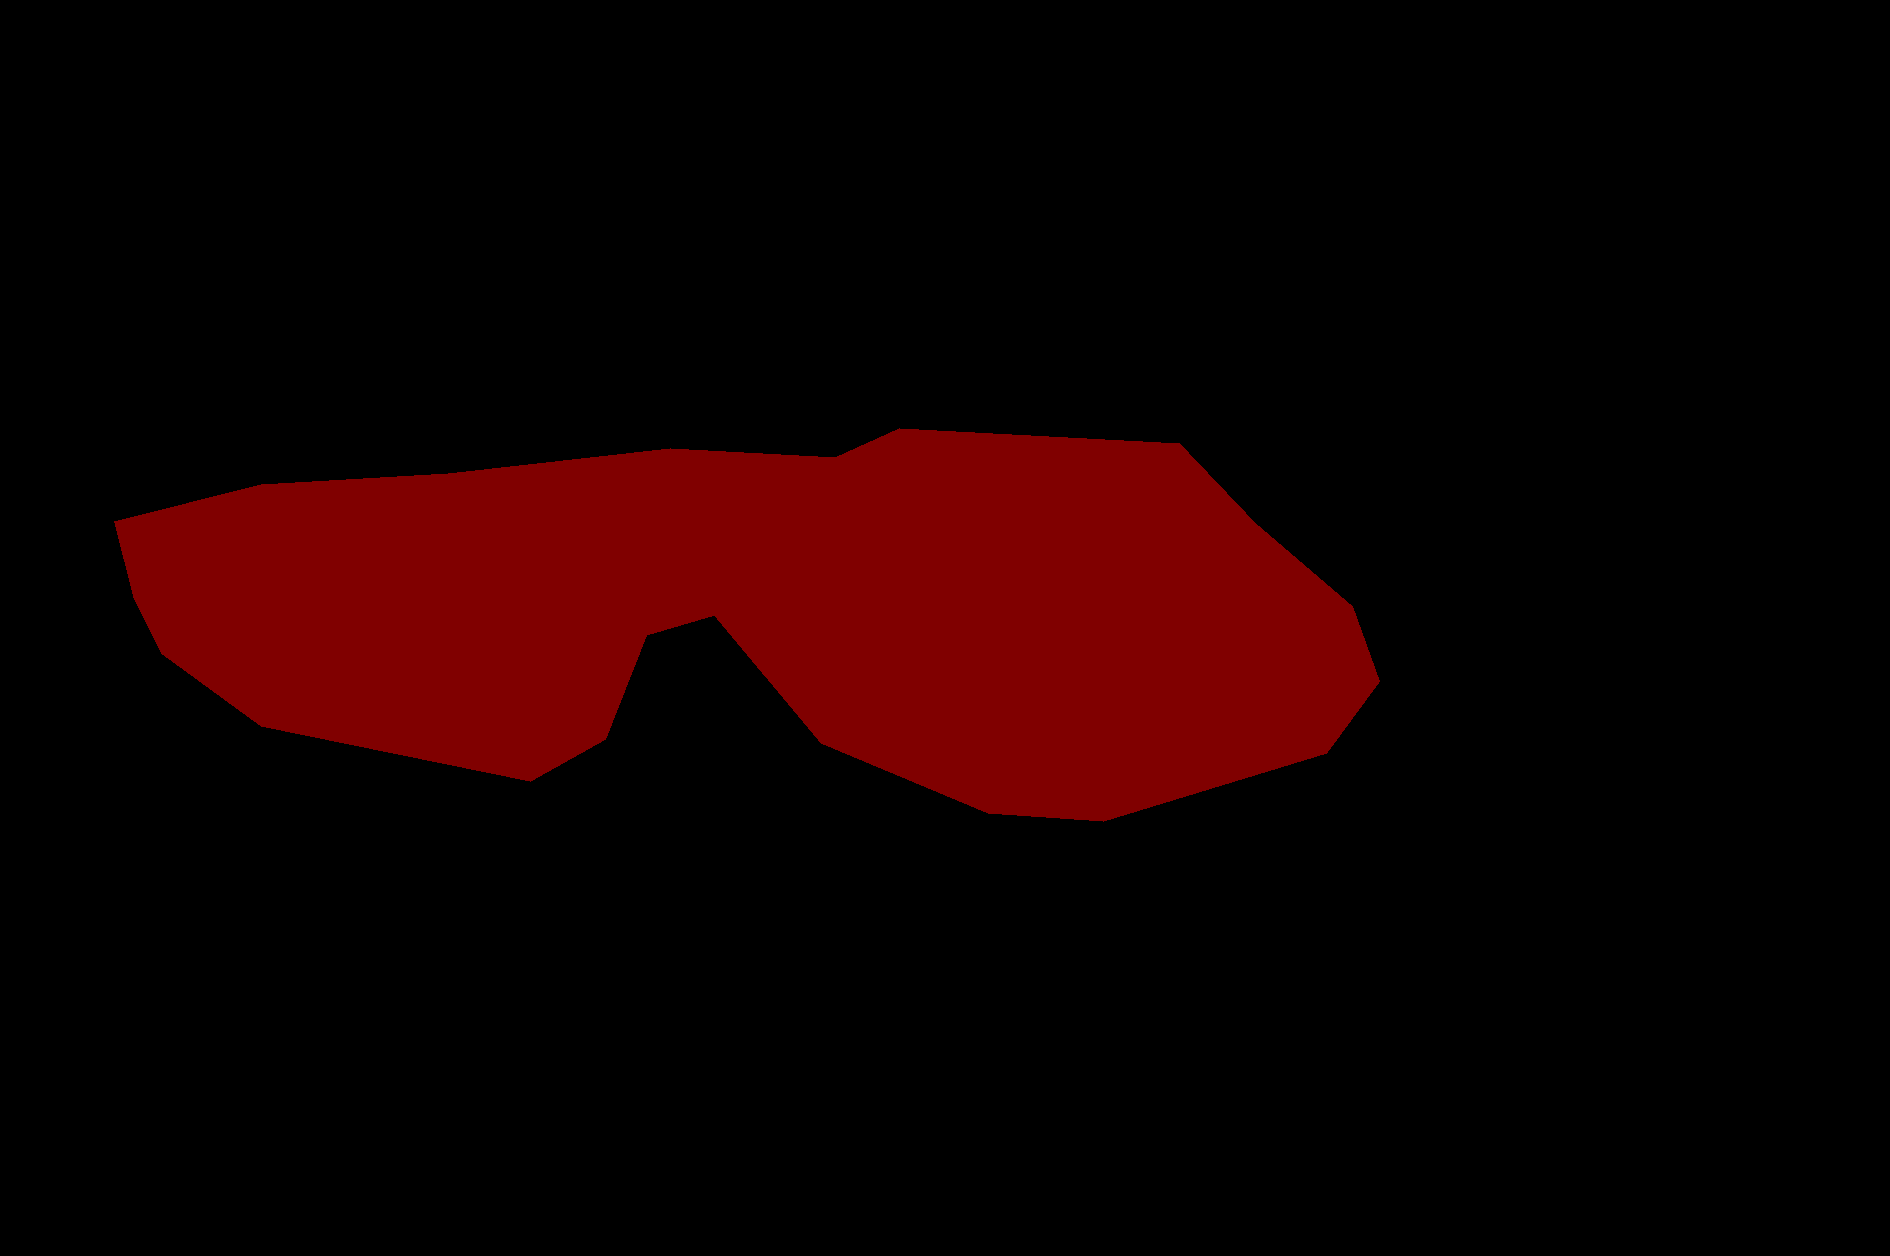fire: (113, 428, 1379, 821)
